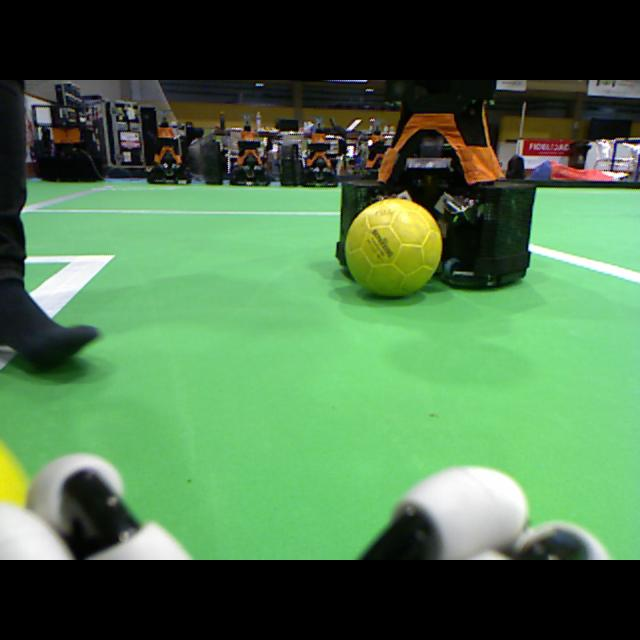ball: (346, 200, 440, 297)
robot: (335, 81, 534, 286), (36, 103, 110, 183), (148, 113, 190, 184), (229, 117, 270, 185), (300, 117, 337, 188), (366, 120, 385, 173)
